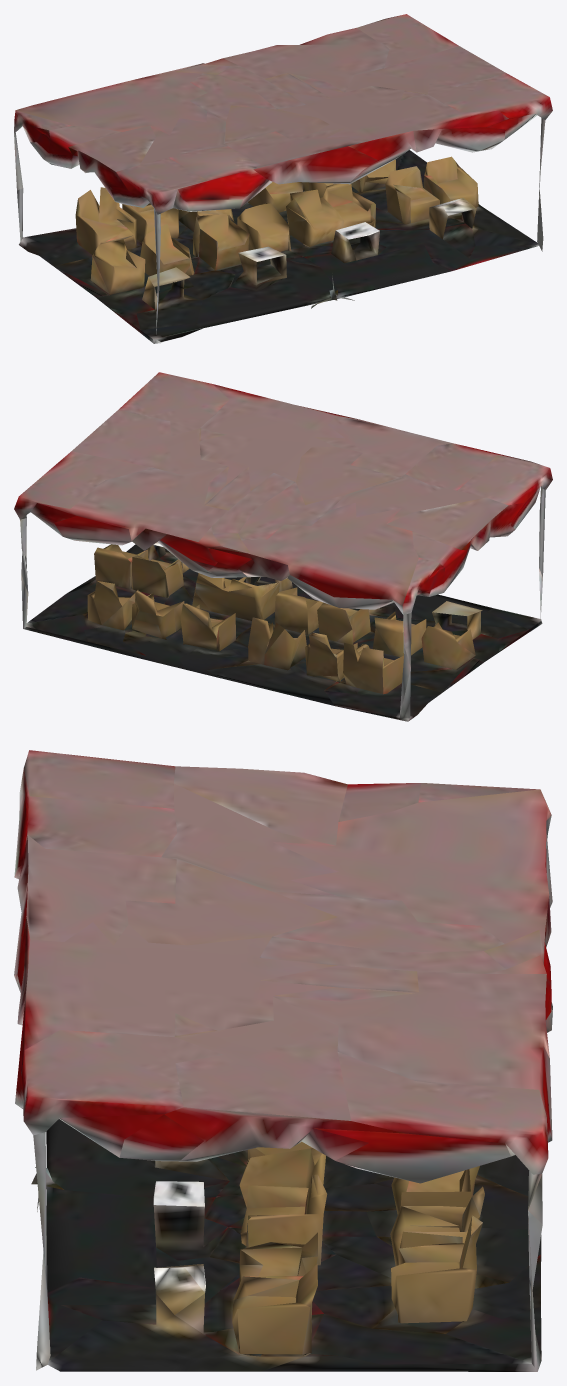
Rendered from tenda_parade_2_lod2.glb.
3 views of the same model, one above another, from view 1: azimuth 30°, elevation 25°; view 2: azimuth 150°, elevation 25°; view 3: azimuth 270°, elevation 25° (orthographic). The views are drawn at different scales.
Visible parts, largest first — view 1: tripo_node_a1997403-671b-43c4-b328-058fde412c8a; view 2: tripo_node_a1997403-671b-43c4-b328-058fde412c8a; view 3: tripo_node_a1997403-671b-43c4-b328-058fde412c8a.
Part boxes in pixels (x1,y1,x2,y2): tripo_node_a1997403-671b-43c4-b328-058fde412c8a: [14, 14, 552, 343]; tripo_node_a1997403-671b-43c4-b328-058fde412c8a: [14, 372, 552, 721]; tripo_node_a1997403-671b-43c4-b328-058fde412c8a: [14, 750, 552, 1371].
Bounding box in the file's own units: 0.9965 × 0.3787 × 0.6439.
Materials: 1 (1 with a texture image).
